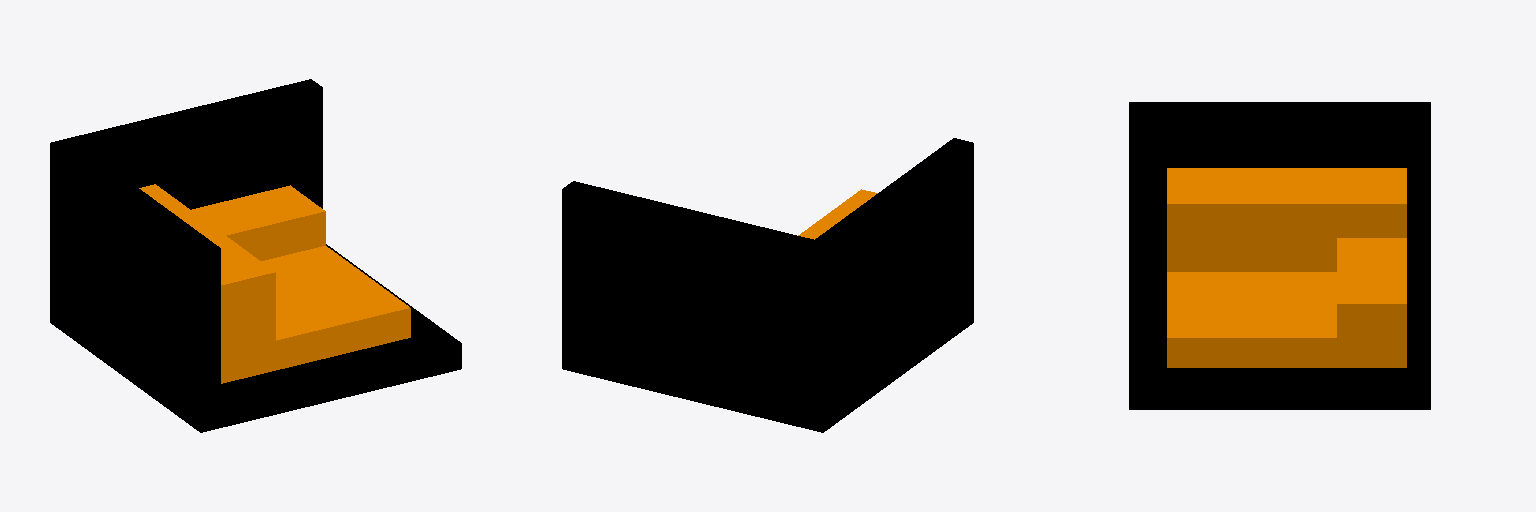
3 views of the same model, side by side, from view 1: azimuth 30°, elevation 25°; view 2: azimuth 150°, elevation 25°; view 3: azimuth 270°, elevation 25° (orthographic).
Visible parts, largest first — view 1: object 1; view 2: object 1; view 3: object 1.
Part boxes in pixels (x1,y1,x2,y2): object 1: (50,79,461,432); object 1: (562,138,973,432); object 1: (1129,102,1430,409).
Size of the model in its own units: 6.4 by 4.2 by 6.4.
1 materials, 1 textured.